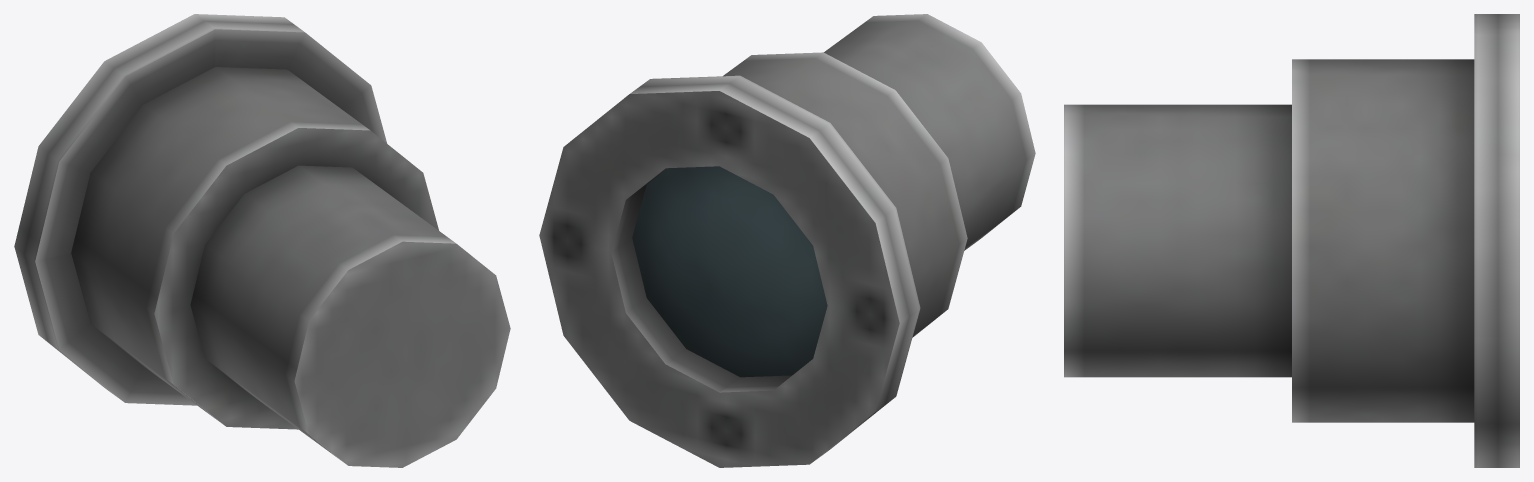
The model's file is cam1.obj.
The picture shows the model from 3 angles, left to right: view 1: azimuth 30°, elevation 25°; view 2: azimuth 150°, elevation 25°; view 3: azimuth 270°, elevation 25°; orthographic projection. The views are drawn at different scales.
Visible parts, largest first — view 1: 1; view 2: 1, w1; view 3: 1.
Part boxes in pixels (bbox=[...]): 1: bbox=[14, 14, 510, 467]; 1: bbox=[539, 14, 1035, 467]; w1: bbox=[632, 166, 827, 377]; 1: bbox=[1064, 14, 1519, 467].
Bounding box in the file's own units: 0.125 × 0.125 × 0.125.
Materials: 2 (2 with a texture image).
